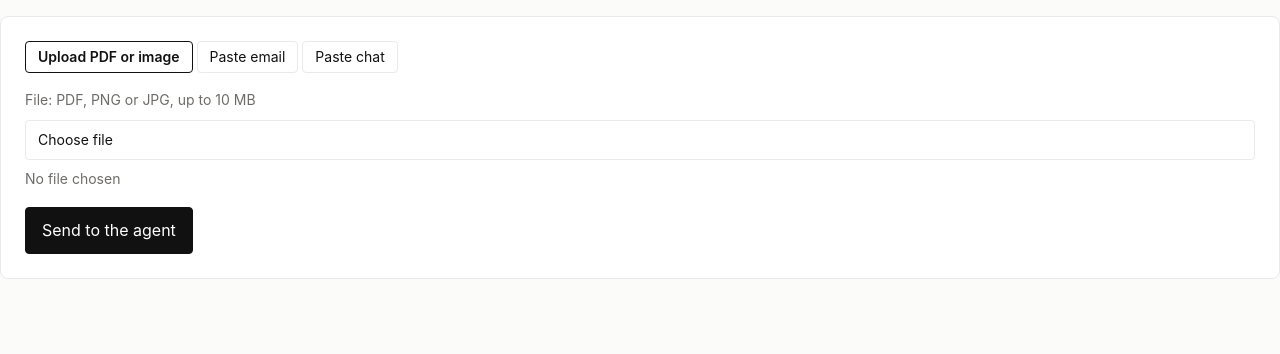
Test: the same in English (UX-20)
Click the button "Send to the agent". click: (109, 230)
box: [25,207,193,254]
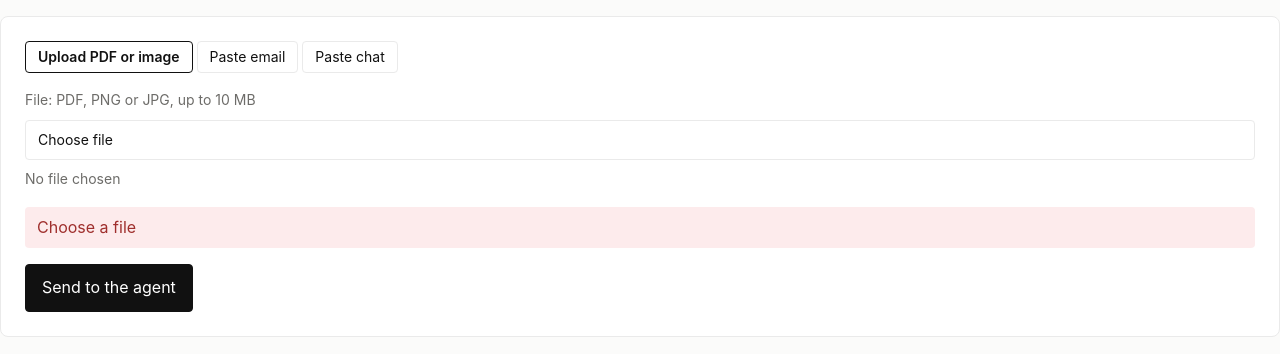
Expected: the message reads "Choose a file", [37,217,136,237]
